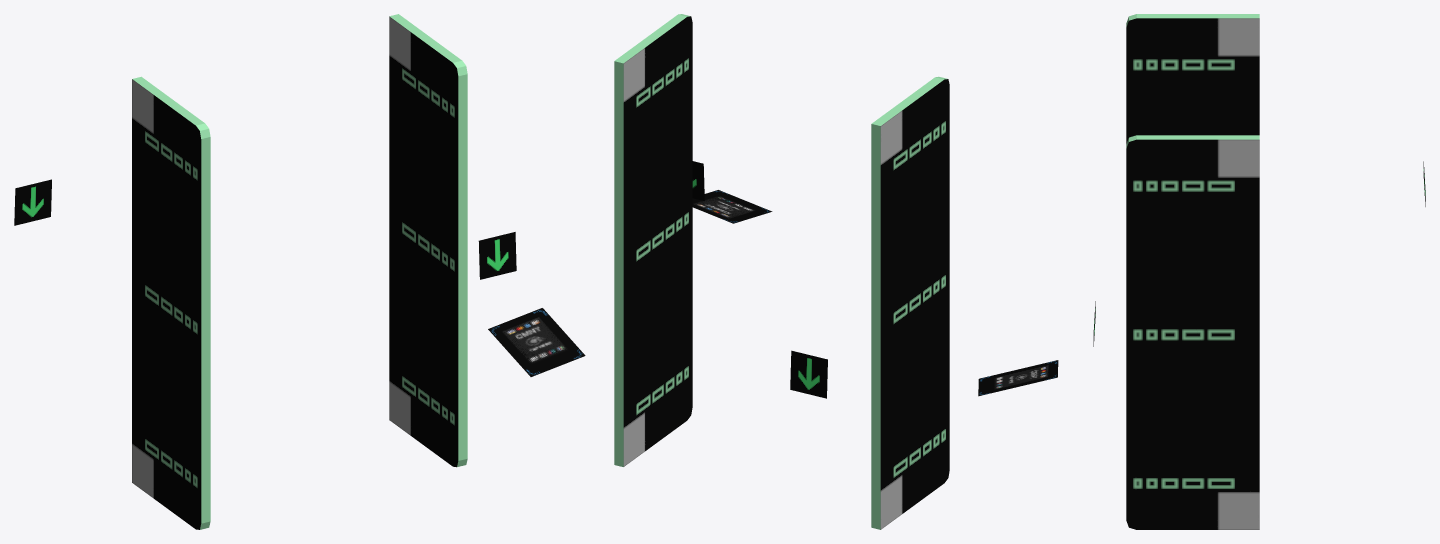
Rendered from nyc_subway_fare_gate_5_twoway_open_exit_light_layer.obj.
3 renders of one model, left to right at view 1: azimuth 30°, elevation 25°; view 2: azimuth 150°, elevation 25°; view 3: azimuth 270°, elevation 25°, orthographic. The views are drawn at different scales.
Visible parts, largest first — view 1: doorLeft, cube; view 2: doorLeft, cube; view 3: doorLeft, cube.
Part boxes in pixels (x1=…): doorLeft: x1=132, y1=14, x2=467, y2=529; cube: x1=14, y1=179, x2=585, y2=376; doorLeft: x1=614, y1=14, x2=949, y2=529; cube: x1=692, y1=161, x2=827, y2=398; doorLeft: x1=1126, y1=14, x2=1259, y2=529; cube: x1=978, y1=161, x2=1425, y2=396.
Bounding box in the file's own units: 1.16 × 1.31 × 1.36.
1 material, 1 textured.
